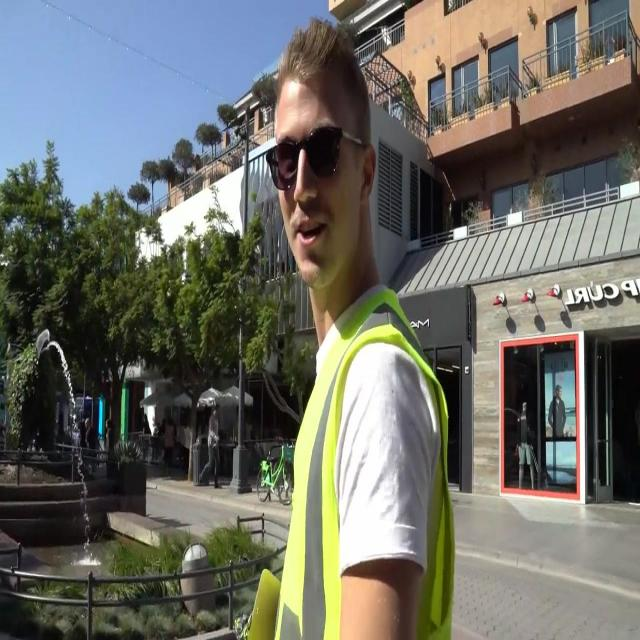Reflective-Jacket: (268, 286, 457, 640)
